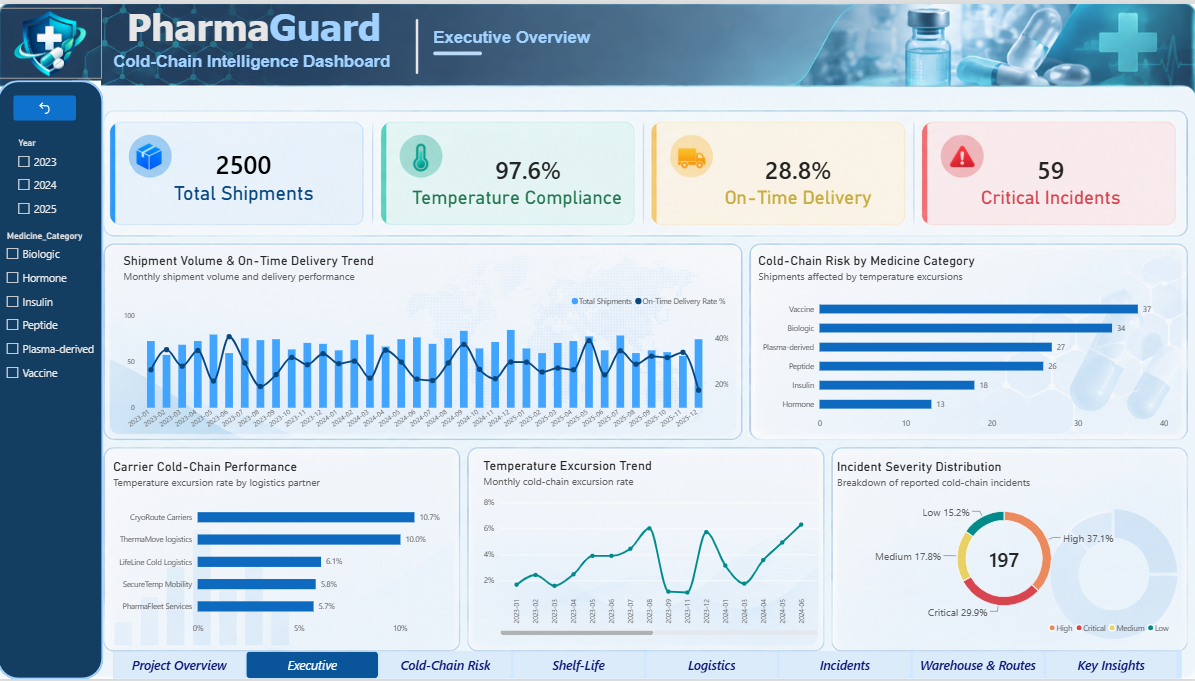

The dashboard page shown, as its layout file describes it:
{"tool":"powerbi","page":{"name":"Executive","canvas":[1920,1080],"ordinal":1},"visuals":[{"type":"textbox","box":[207.8,0,510.7,75.7],"z":0},{"type":"textbox","box":[186.1,75.7,484.8,71.4],"z":1000},{"type":"shape","box":[582,24,180,88],"z":2000},{"type":"textbox","box":[698,38,261.9,36.8],"z":3000},{"type":"image","box":[0,6,168,114],"z":4000},{"type":"shape","box":[698,38,78,82],"z":5000},{"type":"shape","box":[0,121.2,170,958.8],"z":6000},{"type":"image","box":[200.7,220,87.9,48.6],"z":7000},{"type":"image","box":[627.9,220,100.7,52.1],"z":8000},{"type":"image","box":[1080.9,228.2,61.8,40],"z":9000},{"type":"image","box":[1512.1,224.3,61.8,40],"z":10000},{"type":"cardVisual","title":"Total Shipments","fields":{"Data":["_Measures.Total Shipments"]},"box":[186.1,188.3,417.7,173.1],"z":11000},{"type":"cardVisual","title":"Total Shipments","fields":{"Data":["_Measures.Temperature Compliance Rate %"]},"box":[647.1,203.4,404.7,158],"z":12000},{"type":"cardVisual","title":"Total Shipments","fields":{"Data":["_Measures.On-Time Delivery Rate %"]},"box":[1079.9,203.4,404.7,158],"z":13000},{"type":"cardVisual","title":"Total Shipments","fields":{"Data":["_Measures.Critical Incidents"]},"box":[1484.6,203.4,404.7,158],"z":14000},{"type":"slicer","fields":{"Values":["Dim_Date.Year"]},"box":[25,213.3,110,170],"z":15000},{"type":"lineClusteredColumnComboChart","title":"Shipment Volume & On-Time Delivery Trend","fields":{"Category":["Dim_Date.Year_Month"],"Y":["_Measures.Total Shipments"],"Y2":["_Measures.On-Time Delivery Rate %"]},"box":[186.1,383.1,999.8,316],"z":16000},{"type":"clusteredBarChart","title":"Cold-Chain Risk by Medicine Category","fields":{"Category":["Products.Medicine_Category"],"Y":["_Measures.Excursion-Affected Shipments"]},"box":[1201.1,383.3,687.7,316.7],"z":17000},{"type":"clusteredBarChart","title":"Carrier Cold-Chain Performance","fields":{"Category":["Carriers.Carrier_Name"],"Y":["_Measures.Shipment Excursion Rate %"]},"box":[171,714.2,567,313.8],"z":18000},{"type":"lineChart","title":"Temperature Excursion Trend","fields":{"Category":["Dim_Date.Year_Month"],"Y":["_Measures.Temperature Excursion Rate %"]},"box":[762.5,712.5,567,313.8],"z":19000},{"type":"donutChart","title":"Incident Severity Distribution","fields":{"Category":["Incidents.Severity"],"Y":["_Measures.Total Incidents"]},"box":[1328.8,714.2,567,313.8],"z":20000},{"type":"slicer","fields":{"Values":["Products.Medicine_Category"]},"box":[8.7,361.4,162.3,266.2],"z":21000},{"type":"pageNavigator","box":[186.1,1036.6,1709.7,43.3],"z":22000},{"type":"actionButton","box":[25,146.7,100.6,40.8],"z":23000}]}

Visuals, with their boxes on the page's 1920x1080 design canvas (x1, y1, x2, y2). These are canvas units, not pixel positions in the 1195x681 screenshot, which may show the page scaled, cropped or inside an application window:
textbox: [x1=208, y1=0, x2=718, y2=76]
textbox: [x1=186, y1=76, x2=671, y2=147]
shape: [x1=582, y1=24, x2=762, y2=112]
textbox: [x1=698, y1=38, x2=960, y2=75]
image: [x1=0, y1=6, x2=168, y2=120]
shape: [x1=698, y1=38, x2=776, y2=120]
shape: [x1=0, y1=121, x2=170, y2=1080]
image: [x1=201, y1=220, x2=289, y2=269]
image: [x1=628, y1=220, x2=729, y2=272]
image: [x1=1081, y1=228, x2=1143, y2=268]
image: [x1=1512, y1=224, x2=1574, y2=264]
"Total Shipments" cardVisual: [x1=186, y1=188, x2=604, y2=361]
"Total Shipments" cardVisual: [x1=647, y1=203, x2=1052, y2=361]
"Total Shipments" cardVisual: [x1=1080, y1=203, x2=1485, y2=361]
"Total Shipments" cardVisual: [x1=1485, y1=203, x2=1889, y2=361]
slicer - Dim_Date.Year: [x1=25, y1=213, x2=135, y2=383]
"Shipment Volume & On-Time Delivery Trend" lineClusteredColumnComboChart: [x1=186, y1=383, x2=1186, y2=699]
"Cold-Chain Risk by Medicine Category" clusteredBarChart: [x1=1201, y1=383, x2=1889, y2=700]
"Carrier Cold-Chain Performance" clusteredBarChart: [x1=171, y1=714, x2=738, y2=1028]
"Temperature Excursion Trend" lineChart: [x1=762, y1=712, x2=1330, y2=1026]
"Incident Severity Distribution" donutChart: [x1=1329, y1=714, x2=1896, y2=1028]
slicer - Products.Medicine_Category: [x1=9, y1=361, x2=171, y2=628]
pageNavigator: [x1=186, y1=1037, x2=1896, y2=1080]
actionButton: [x1=25, y1=147, x2=126, y2=188]
